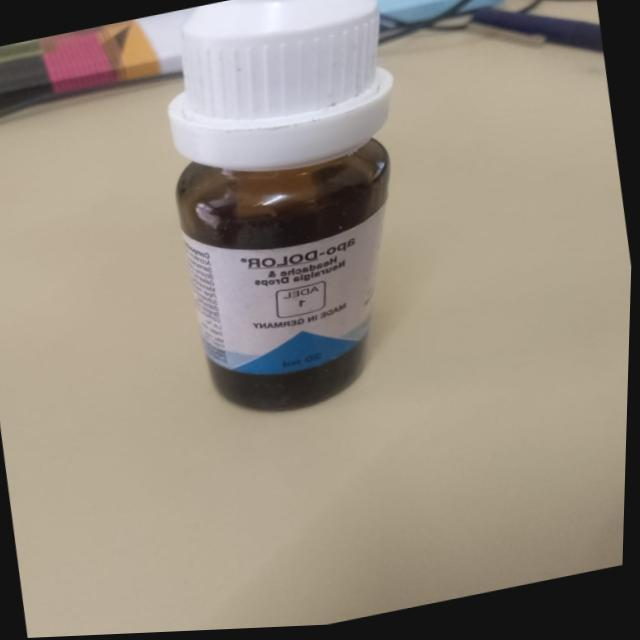medicine: (142, 0, 397, 442)
